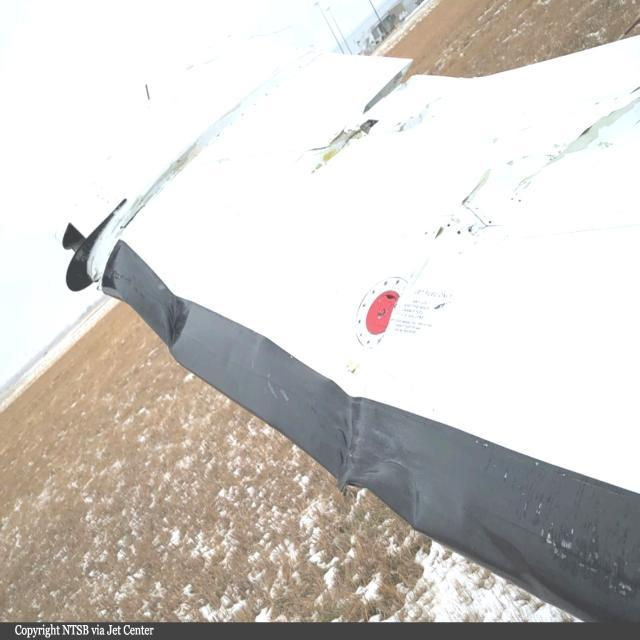crack: (306, 67, 424, 180), (519, 97, 640, 195), (434, 163, 497, 254)
